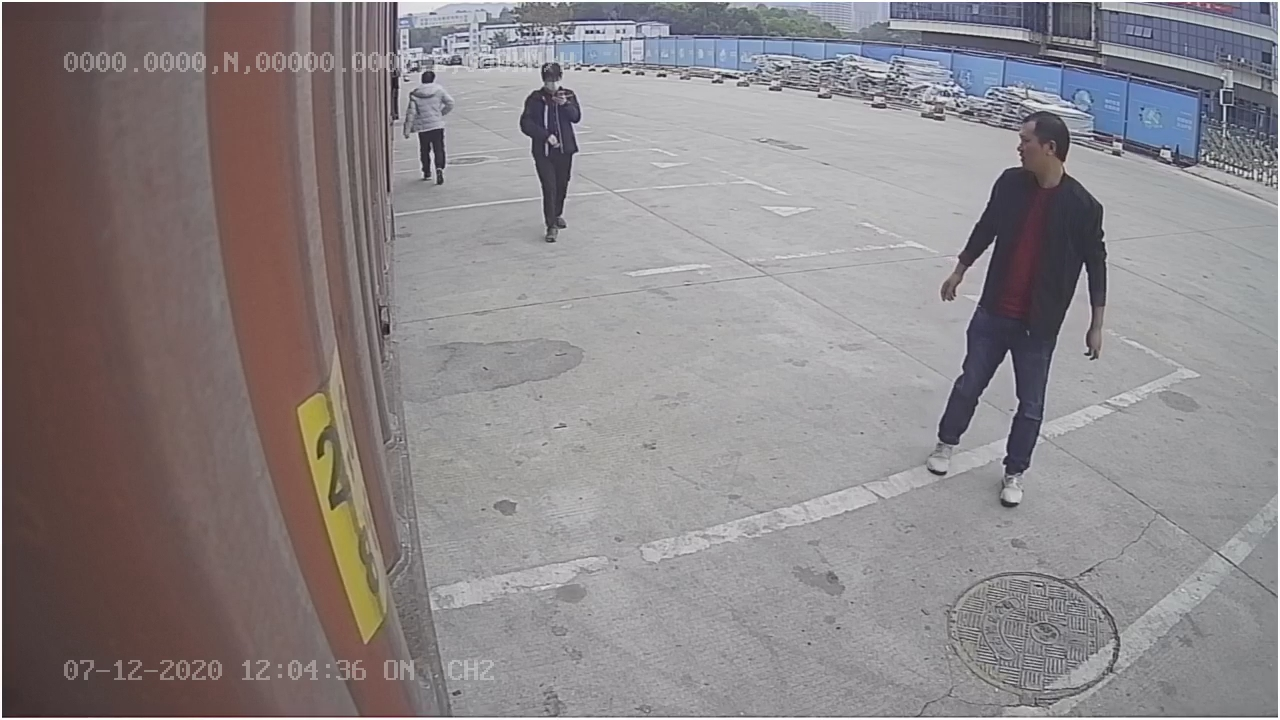person: (924, 88, 1111, 506)
